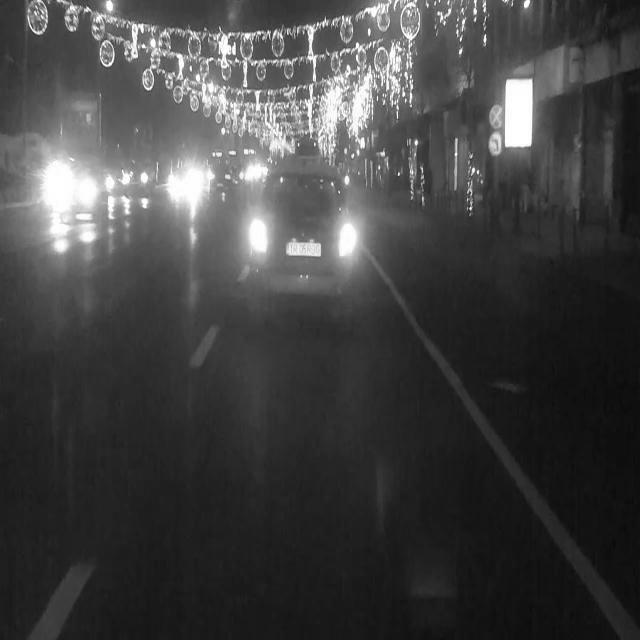licenseplate: (284, 239, 323, 259)
